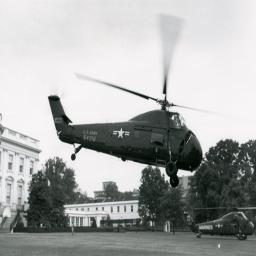helicopter: (50, 15, 202, 190)
